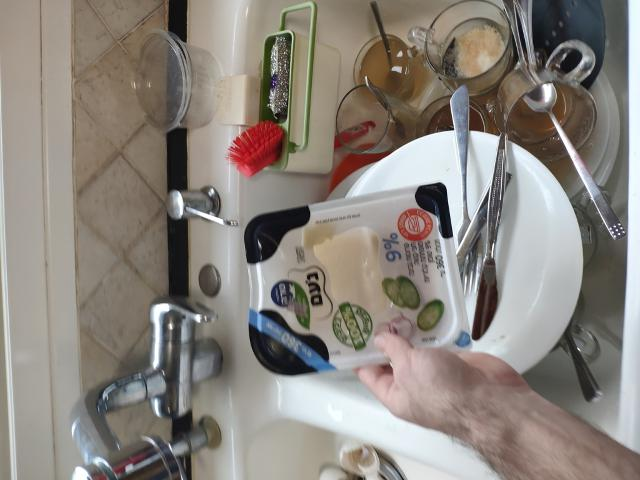cheese: (227, 189, 502, 430)
